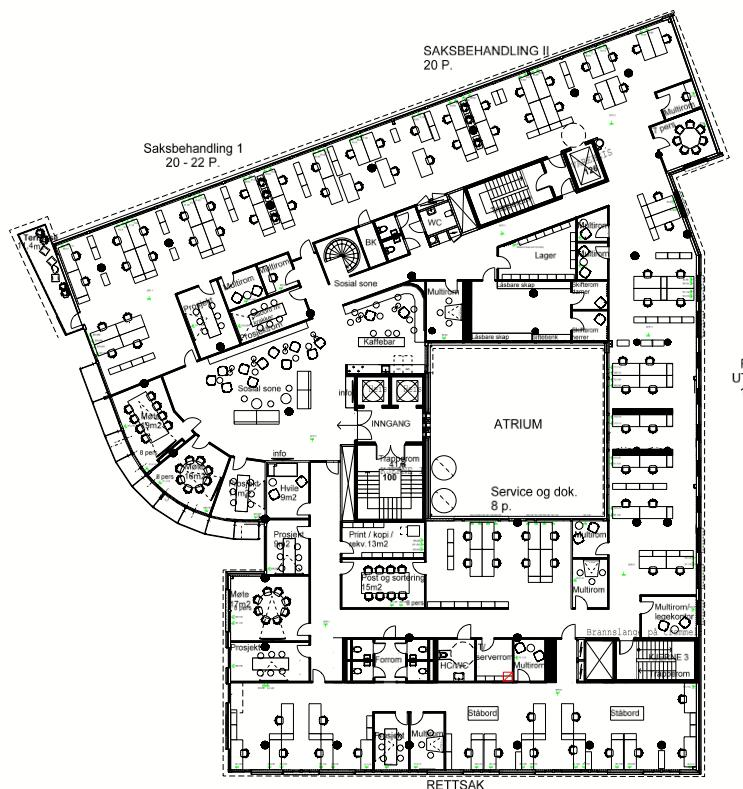room: (428, 345, 606, 518), (470, 280, 608, 341), (228, 574, 310, 641), (356, 443, 424, 520), (356, 375, 423, 443), (341, 558, 426, 608), (344, 639, 434, 681), (615, 639, 697, 682), (228, 641, 310, 682), (341, 521, 426, 559), (265, 518, 311, 575), (425, 281, 468, 341), (640, 595, 698, 638), (267, 462, 310, 518), (410, 712, 445, 771), (374, 712, 409, 770), (572, 558, 608, 608), (435, 638, 475, 682), (475, 637, 513, 682), (513, 638, 548, 682), (572, 519, 609, 558), (576, 242, 609, 279)
